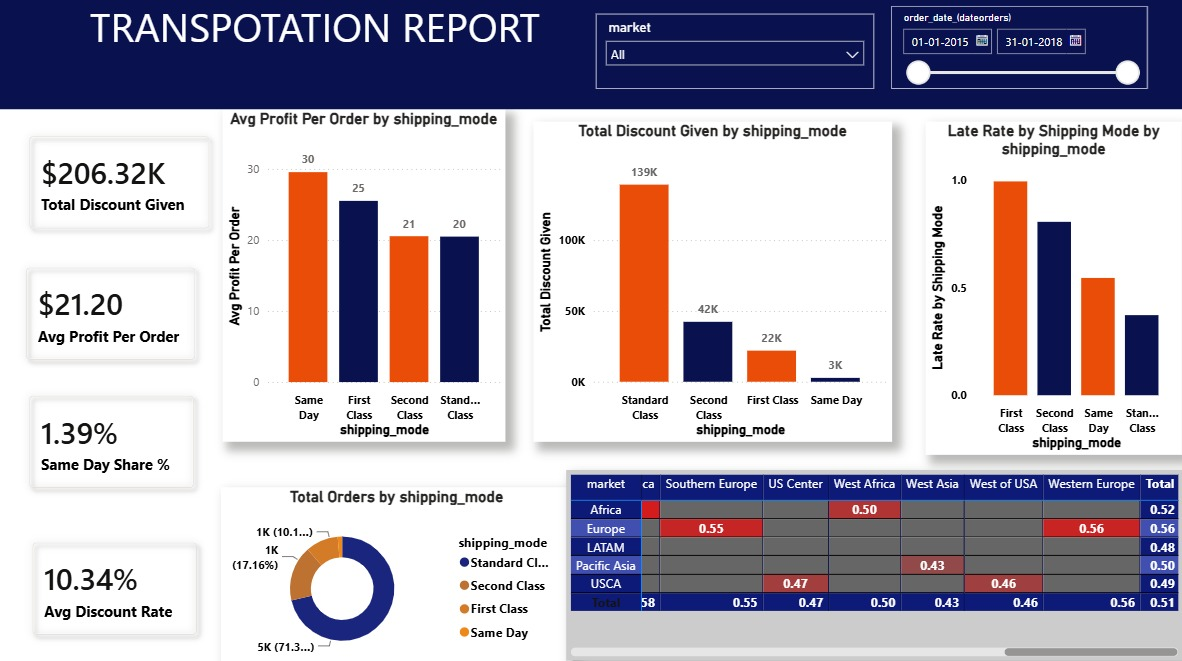

The page's visual inventory and layout, read from the dashboard file:
{"tool":"powerbi","page":{"name":"Page 5","canvas":[1280,720],"ordinal":4},"visuals":[{"type":"cardVisual","fields":{"Data":["Fact_table.Avg Profit Per Order"]},"box":[310.8,123.3,241.6,158.8],"z":0},{"type":"cardVisual","fields":{"Data":["Fact_table.Avg Discount Rate"]},"box":[3.4,550.7,236.5,158.8],"z":1000},{"type":"cardVisual","fields":{"Data":["Fact_table.Same Day Share %"]},"box":[3.4,339.5,236.5,158.8],"z":2000},{"type":"cardVisual","fields":{"Data":["Fact_table.Total Discount Given"]},"box":[3.4,123.3,253.4,158.8],"z":3000},{"type":"columnChart","fields":{"Y":["Fact_table.Total Discount Given"],"Category":["Dim_Shipping.shipping_mode"]},"box":[238.2,511.8,332.8,207.8],"z":4000},{"type":"columnChart","fields":{"Y":["Fact_table.Avg Profit Per Order"],"Category":["Dim_Shipping.shipping_mode"]},"box":[658.8,138.5,305.7,359.8],"z":5000},{"type":"columnChart","fields":{"Y":["Fact_table.Late Rate by Shipping Mode"],"Category":["Fact_table.shipping_mode"]},"box":[1003.4,138.5,277,317.6],"z":6000},{"type":"donutChart","fields":{"Y":["Fact_table.Total Orders"],"Category":["Dim_Shipping.shipping_mode"]},"box":[241.6,287.2,380.1,189.2],"z":7000},{"type":"pivotTable","fields":{"Rows":["Dim_location.market"],"Columns":["Dim_location.order_region"],"Values":["Fact_table.Late Delivery %"]},"box":[594.6,513.5,369.9,206.1],"z":8000},{"type":"textSlicer","fields":{"Values":["Dim_location.market"]},"box":[1003.4,630.1,277,76],"z":9000},{"type":"slicer","fields":{"Values":["Fact_table.order_date_(dateorders)"]},"box":[1003.4,476.4,277,121.6],"z":10000},{"type":"textbox","box":[0,0,1280.4,123.3],"z":11000}]}

Visuals, with their boxes in screenshot pixels (x1, y1, x2, y2), scaled from the page's 1280x720 canvas onto the 1182x661 screenshot:
cardVisual - Fact_table.Avg Profit Per Order: x1=287 y1=113 x2=510 y2=259
cardVisual - Fact_table.Avg Discount Rate: x1=3 y1=506 x2=222 y2=651
cardVisual - Fact_table.Same Day Share %: x1=3 y1=312 x2=222 y2=457
cardVisual - Fact_table.Total Discount Given: x1=3 y1=113 x2=237 y2=259
columnChart - Fact_table.Total Discount Given x Dim_Shipping.shipping_mode: x1=220 y1=470 x2=527 y2=660
columnChart - Fact_table.Avg Profit Per Order x Dim_Shipping.shipping_mode: x1=608 y1=127 x2=891 y2=457
columnChart - Fact_table.Late Rate by Shipping Mode x Fact_table.shipping_mode: x1=927 y1=127 x2=1181 y2=419
donutChart - Fact_table.Total Orders x Dim_Shipping.shipping_mode: x1=223 y1=264 x2=574 y2=437
pivotTable - Dim_location.market x Dim_location.order_region: x1=549 y1=471 x2=891 y2=660
textSlicer - Dim_location.market: x1=927 y1=578 x2=1181 y2=648
slicer - Fact_table.order_date_(dateorders): x1=927 y1=437 x2=1181 y2=549
textbox: x1=0 y1=0 x2=1181 y2=113
